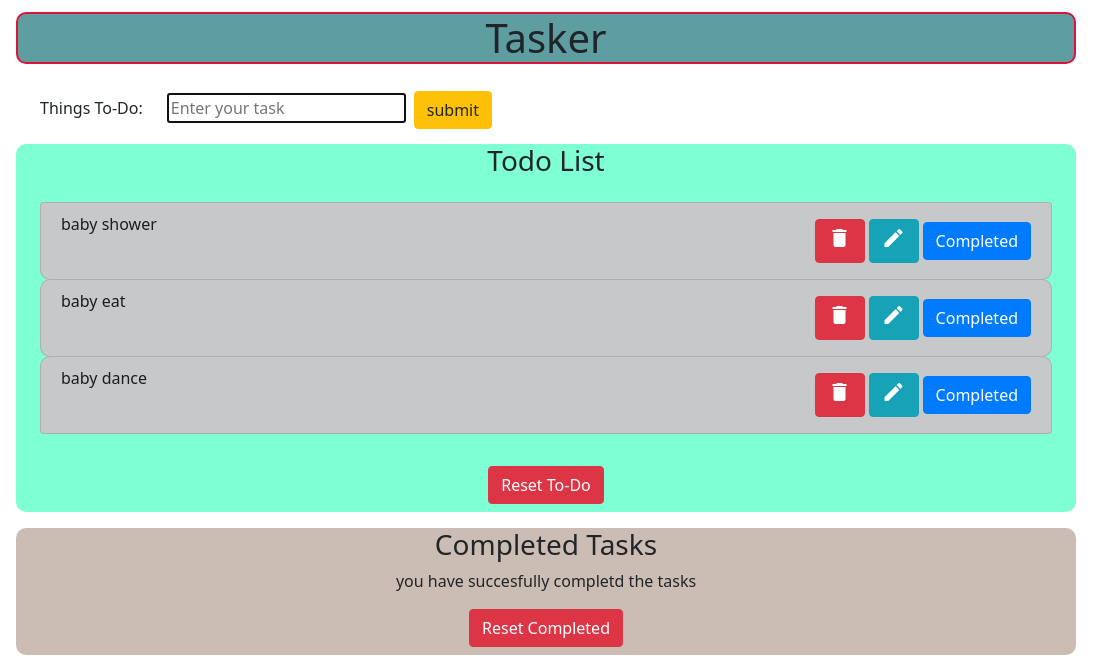
Test case: Todo app testing › complete button and complete list
Click the button "Completed" in the row of "baby eat" at (977, 318), box [923,299,1031,337]
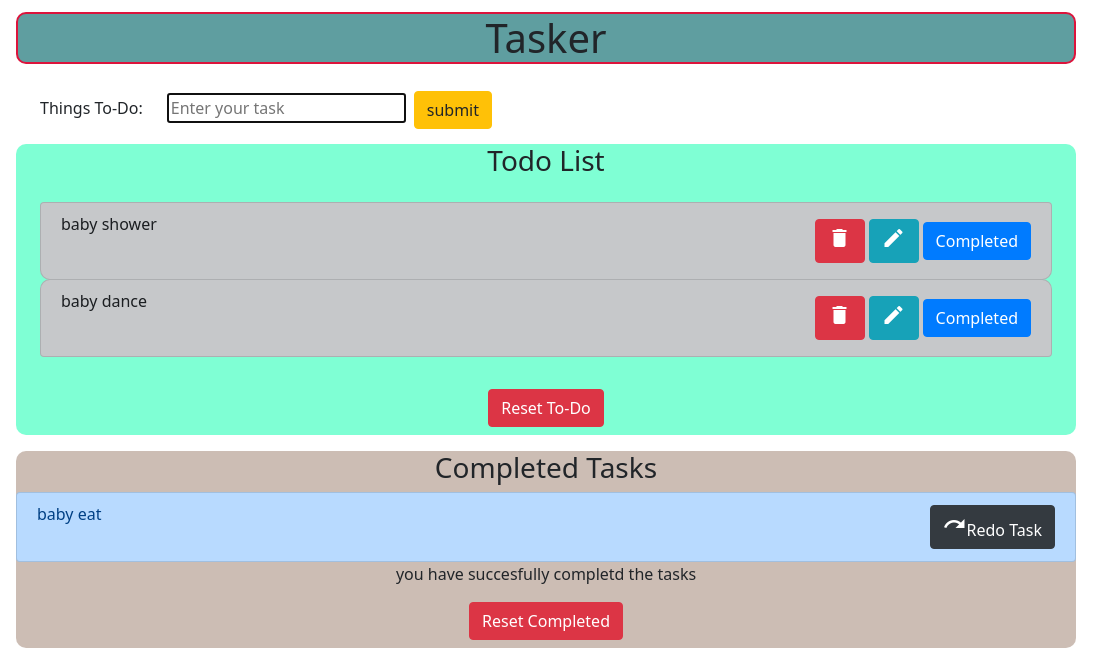
Result: the number of list items with test id "todo-list" is 2 at [40,202,1052,280]; [40,279,1052,357]
Result: the number of list items with test id "completed-list" is 1 at [16,492,1076,562]
